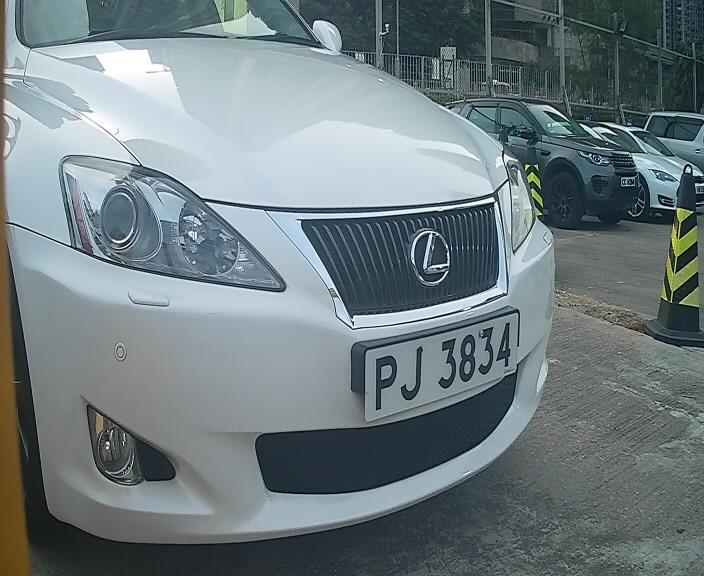privatecar: (13, 8, 560, 553)
